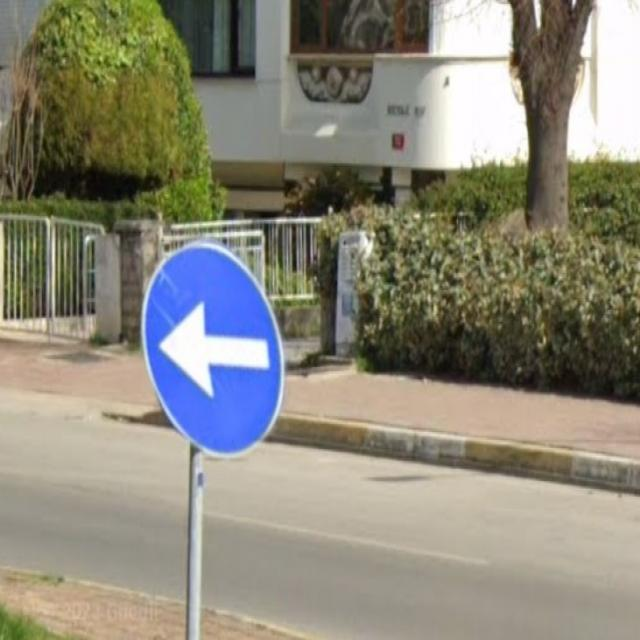Turn Left: (141, 239, 287, 461)
